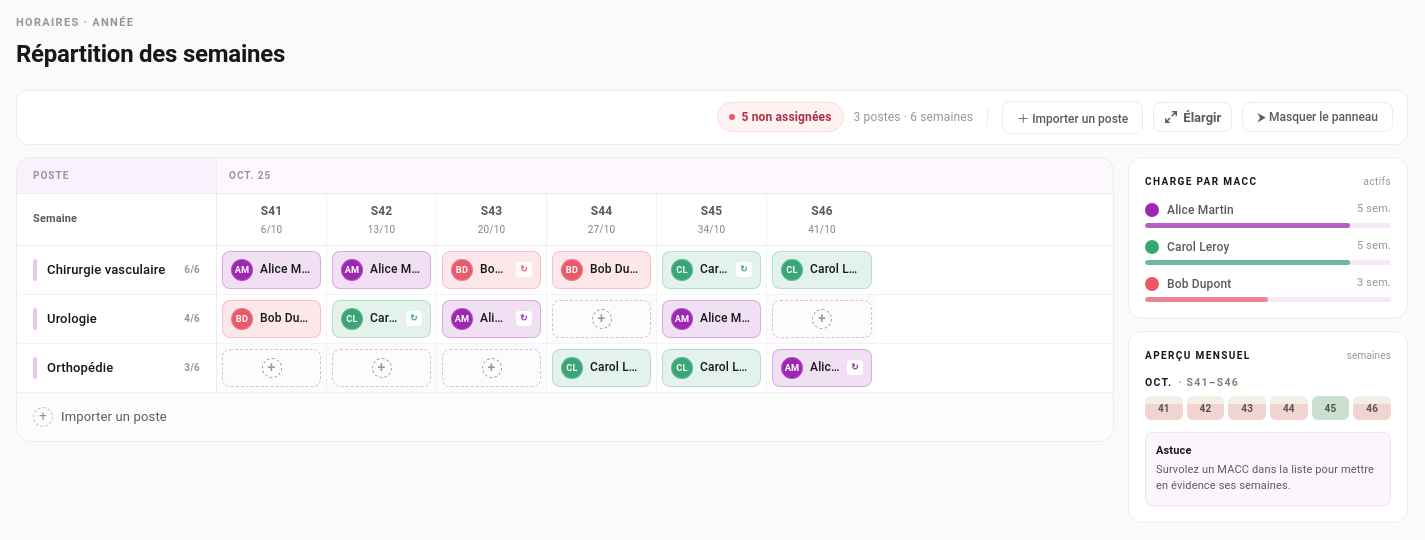
Test: WeekScheduleTable — préférence largeur › bascule compact → large et sauvegarde en localStorage
The image size is (1425, 540).
Click the button titled "Élargir". click: x=1193, y=117
box: x1=1153 y1=102 x2=1232 y2=132
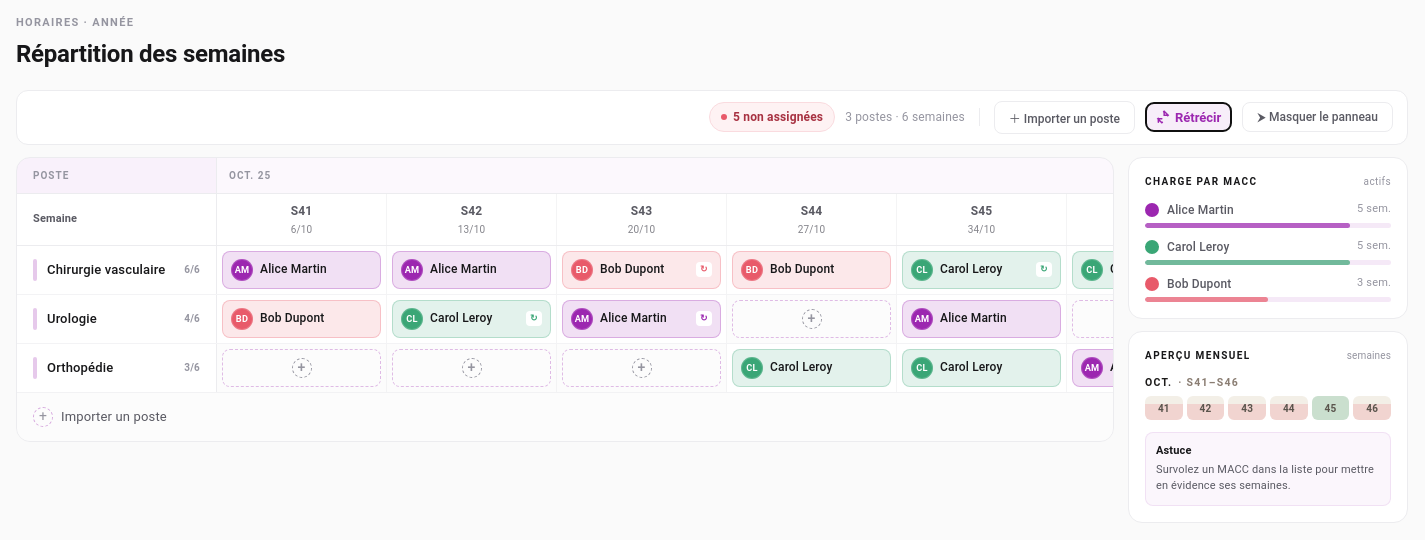
Check: the button titled "Rétrécir" is shown, box x1=1145 y1=102 x2=1232 y2=132
